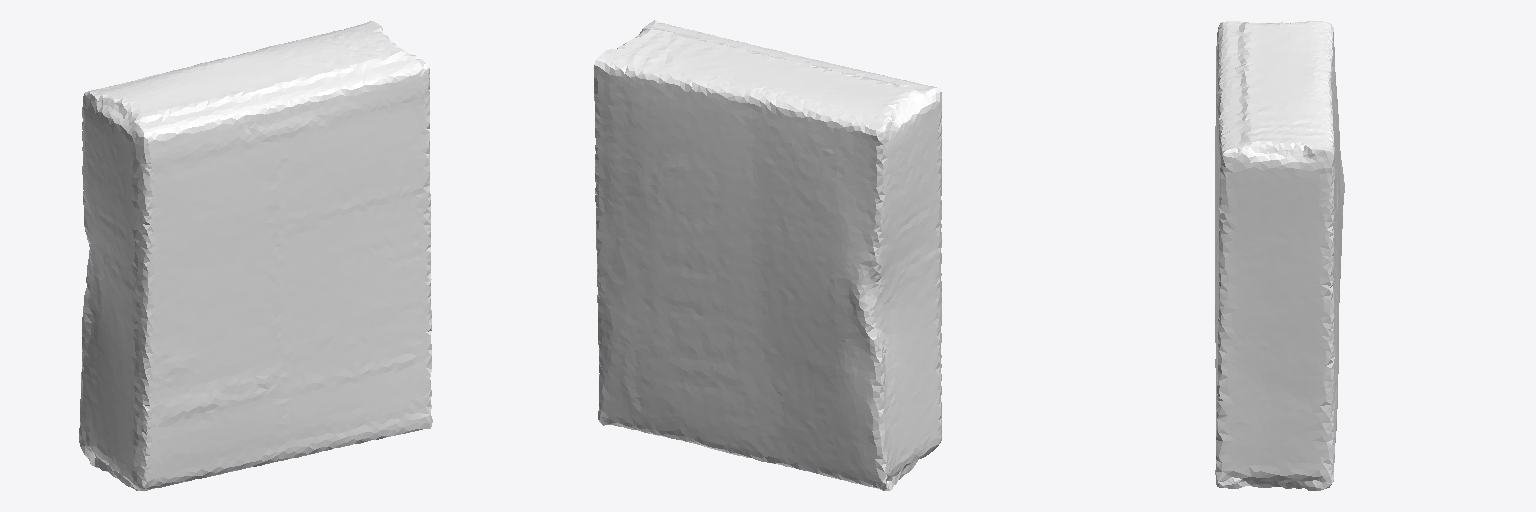
URDF robot description (model.urdf):
<?xml version="0.0" ?>
<robot name="model.urdf">
  <link name="baseLink">
    <contact>
      <friction_anchor/>
      <lateral_friction value="0.5"/>
      <contact_cfm value="0.0"/>
      <contact_erp value="1.0"/>
    </contact>
    <inertial>
       <origin rpy="0 0 0" xyz="0.03 -0.01 -0.02"/>
       <mass value=".411"/>
       <inertia ixx="1e-3" ixy="0" ixz="0" iyy="1e-3" iyz="0" izz="1e-3"/>
    </inertial>
    <visual>
      <geometry>
        <mesh filename="textured_simple_reoriented.obj" scale="0.6 0.6 0.6"/>
      </geometry>
      <material name="white">
        <color rgba="1. 1. 1. 1."/>
      </material>
    </visual>
    <collision>
      <geometry>
    	 	<mesh filename="collision_vhacd.obj" scale="0.6 0.6 0.6"/>
      </geometry>
    </collision>
  </link>
</robot>

--- What the picture shows (computed from the rendered views, not written in the file) ---
The picture shows the robot from 3 angles, left to right: view 1: azimuth 30°, elevation 25°; view 2: azimuth 150°, elevation 25°; view 3: azimuth 270°, elevation 25°; orthographic projection.
Model model.urdf with 1 links and 0 joints (none), rooted at baseLink, posed all joints at 0.
Links seen in each view (by area): view 1: baseLink; view 2: baseLink; view 3: baseLink.
Boxes of the visible links, x1,y1,x2,y2 form: baseLink: (79,21,432,490); baseLink: (594,20,941,490); baseLink: (1215,21,1344,490).
Size in the robot's own frame: 0.0438 by 0.018 by 0.0535 metres.
Meshes: 1 distinct files referenced, 1 mesh visuals loaded (1 OBJ).